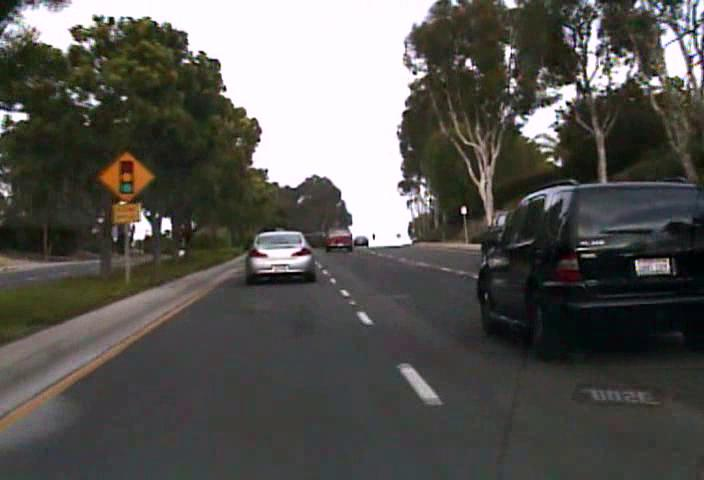signalAhead: (96, 149, 156, 203)
